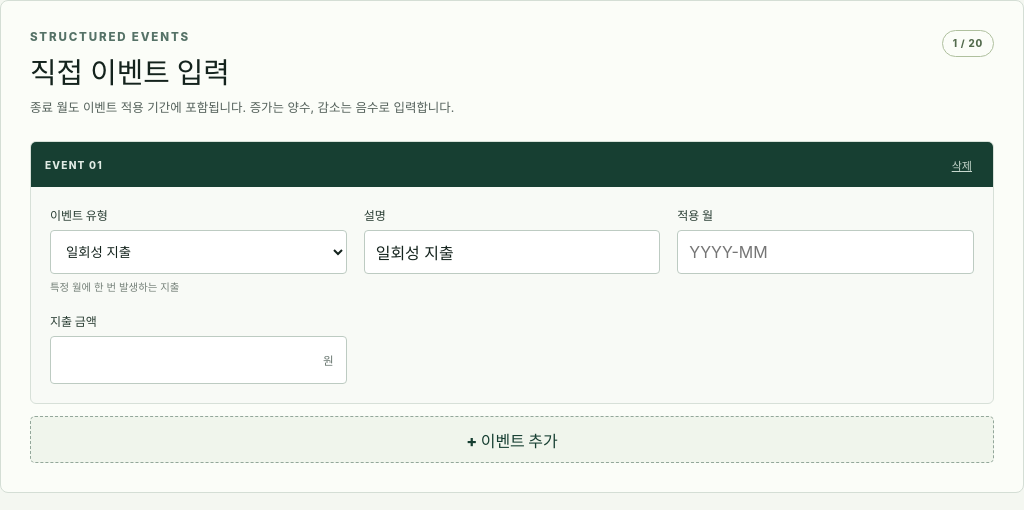
Scenario: EventEditor › shows only the fields contracted for the selected event type
The image size is (1024, 510).
Expected: the field labelled "적용 월" is shown, [677, 230, 974, 274]
Expected: the field labelled "지출 금액" is shown, [51, 337, 311, 383]
Select "소득 중단" in the dropdown labelled "이벤트 유형" at (198, 252), box [50, 230, 347, 274]
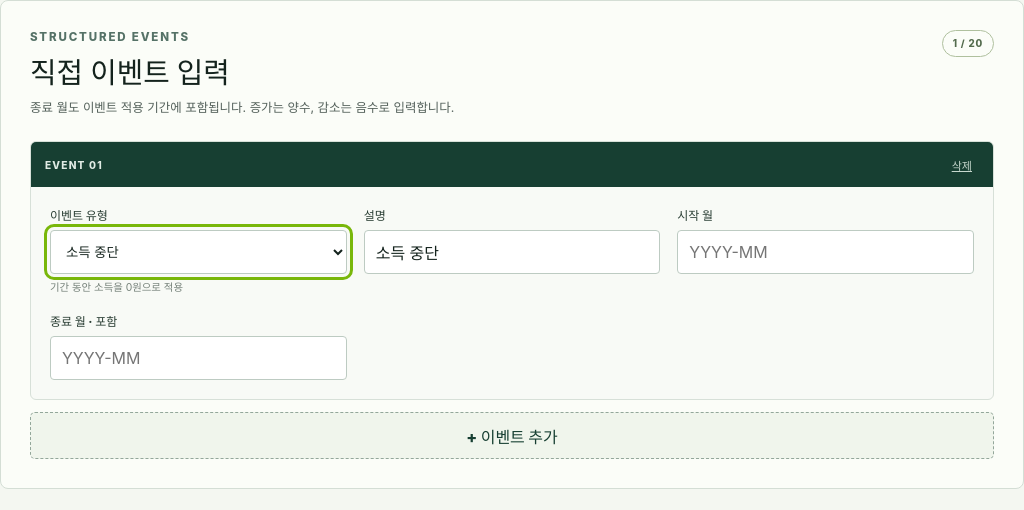
Expected: the field labelled "시작 월" is shown, [677, 230, 974, 274]
Now the field labelled "종료 월 · 포함" is shown, box [50, 336, 347, 380]
Now the label labelled "금액" is gone
Select "추가 대출상환" in the dropdown labelled "이벤트 유형" at (198, 252), box [50, 230, 347, 274]
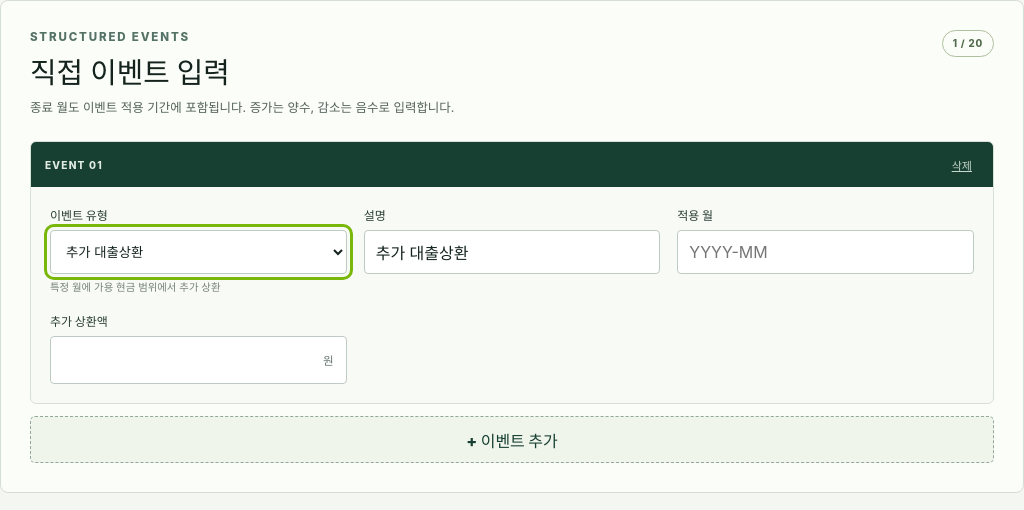
Expected: the field labelled "적용 월" is shown, [677, 230, 974, 274]
Now the field labelled "추가 상환액" is shown, box [51, 337, 311, 383]
